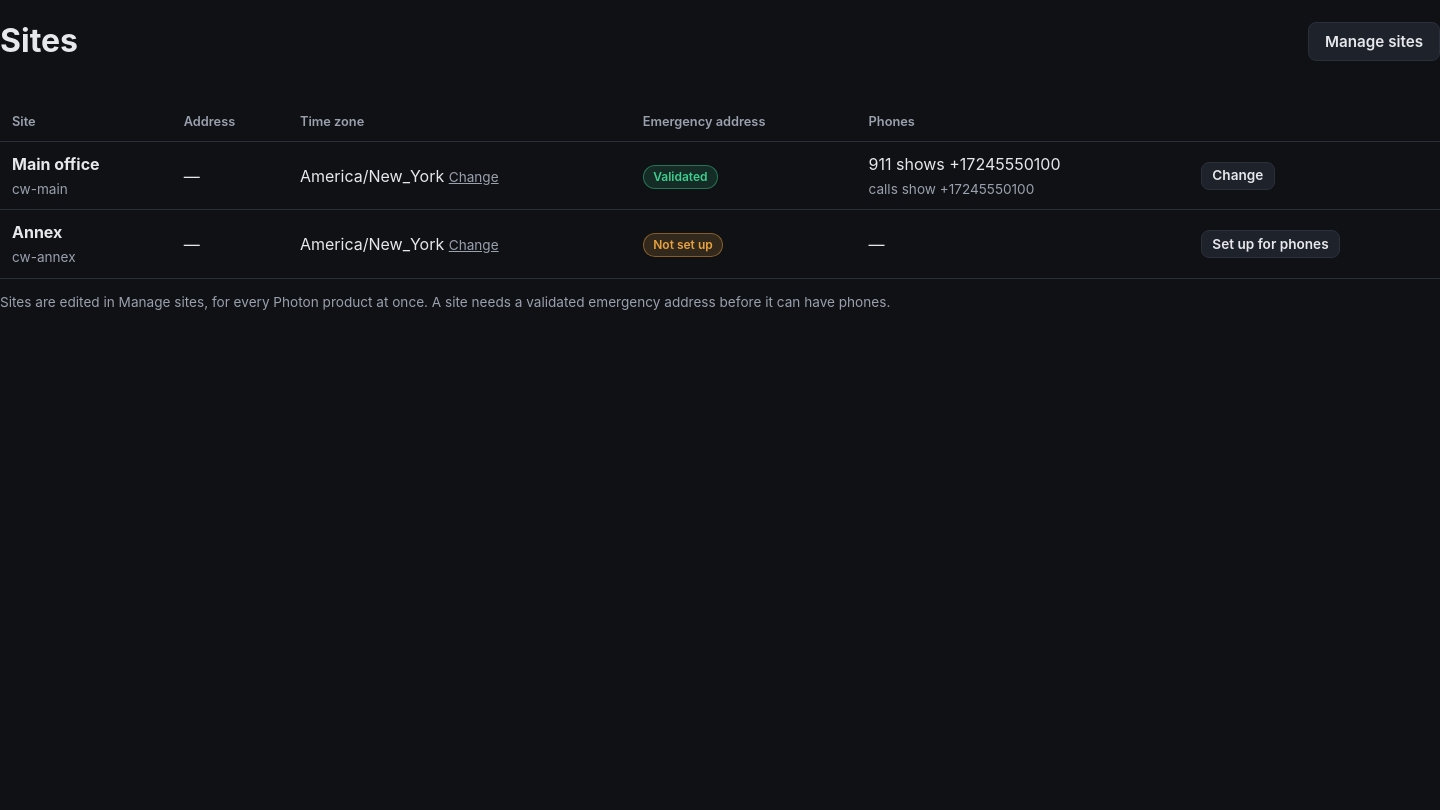
Test case: sites set up for phones › a site with an address already keeps it; a site with no numbers yet is told; a failure is shown
Click the button with aria-label "Set up Main office for phones" at (1238,176), box [1201,162,1275,190]
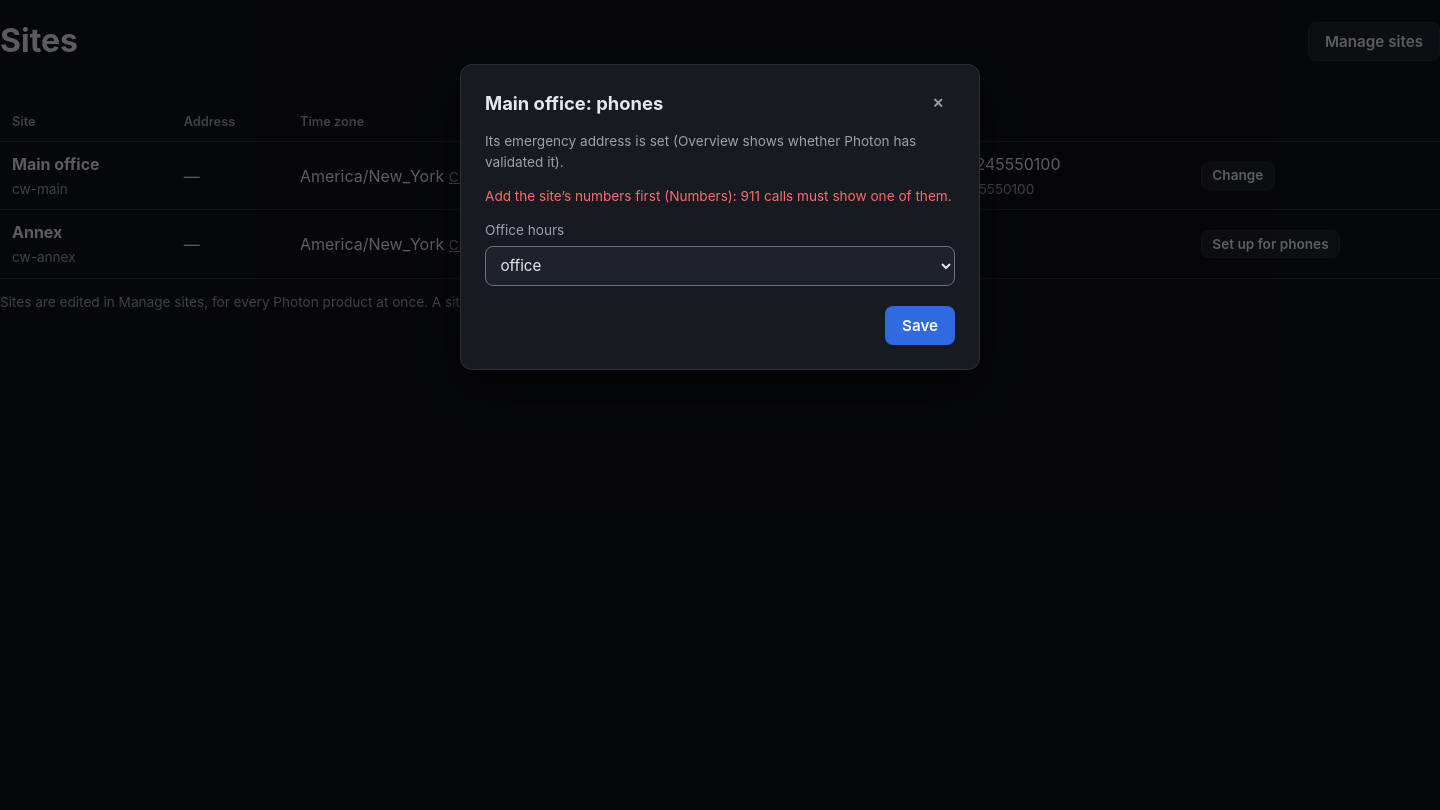
Check: the text "Its emergency address is set" is shown, box [485,133,916,170]
Check: the text "Add the site’s numbers first" is shown, box [485,188,952,204]
Click the button named "Close" at (938,103), box [921,89,955,118]
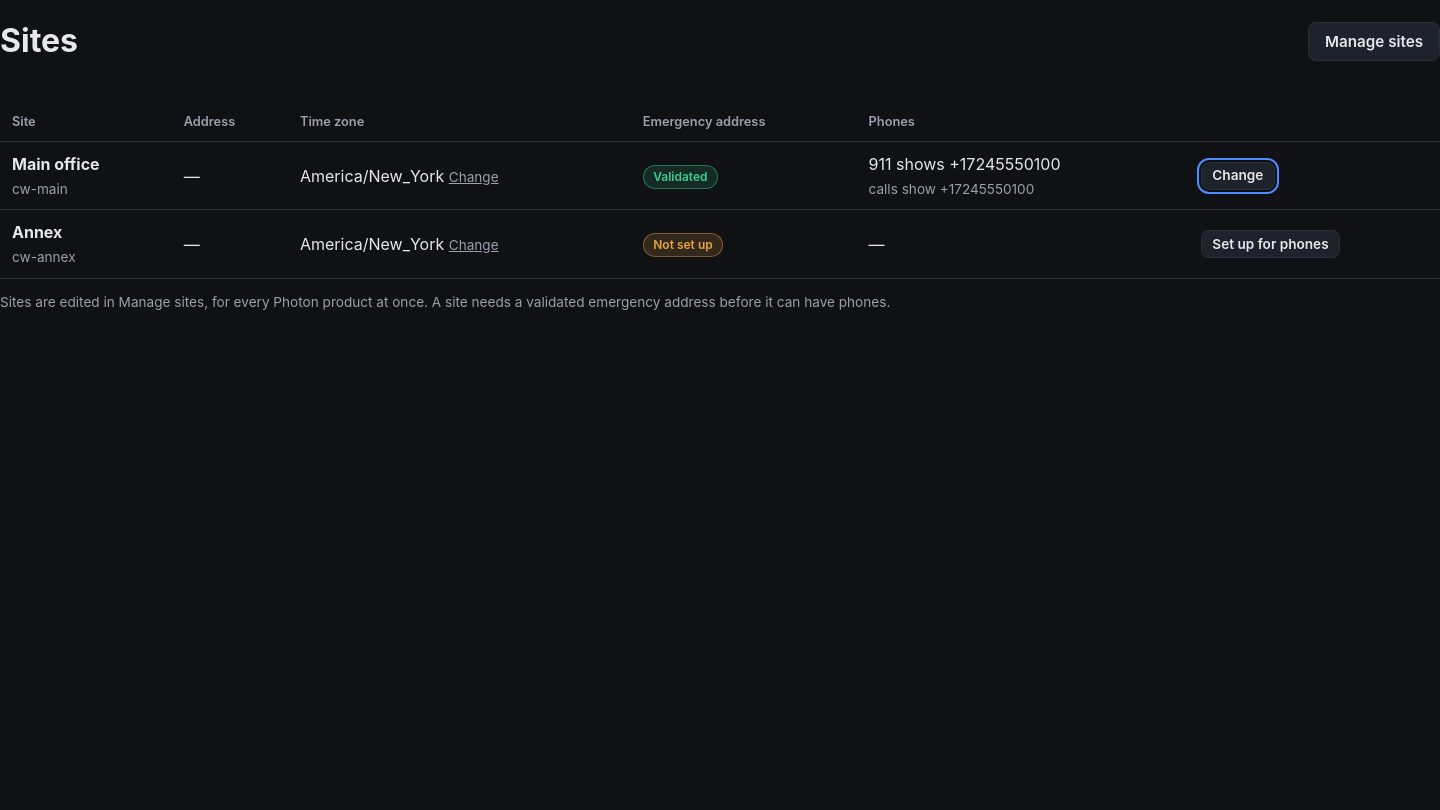
Click the button with aria-label "Set up Annex for phones" at (1270,244), box [1201,230,1340,258]
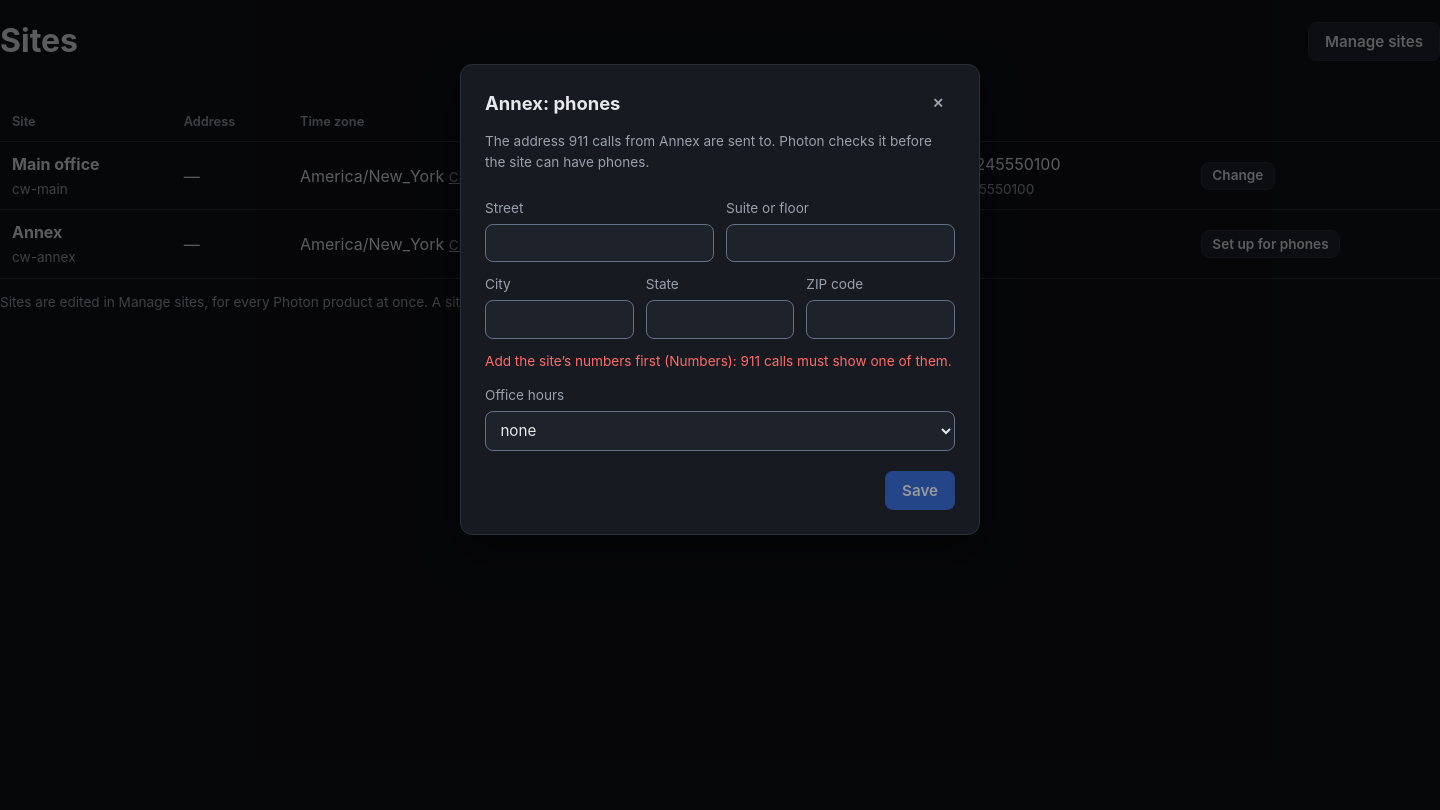
Check: the button "Save" is disabled, box [885,471,955,510]
